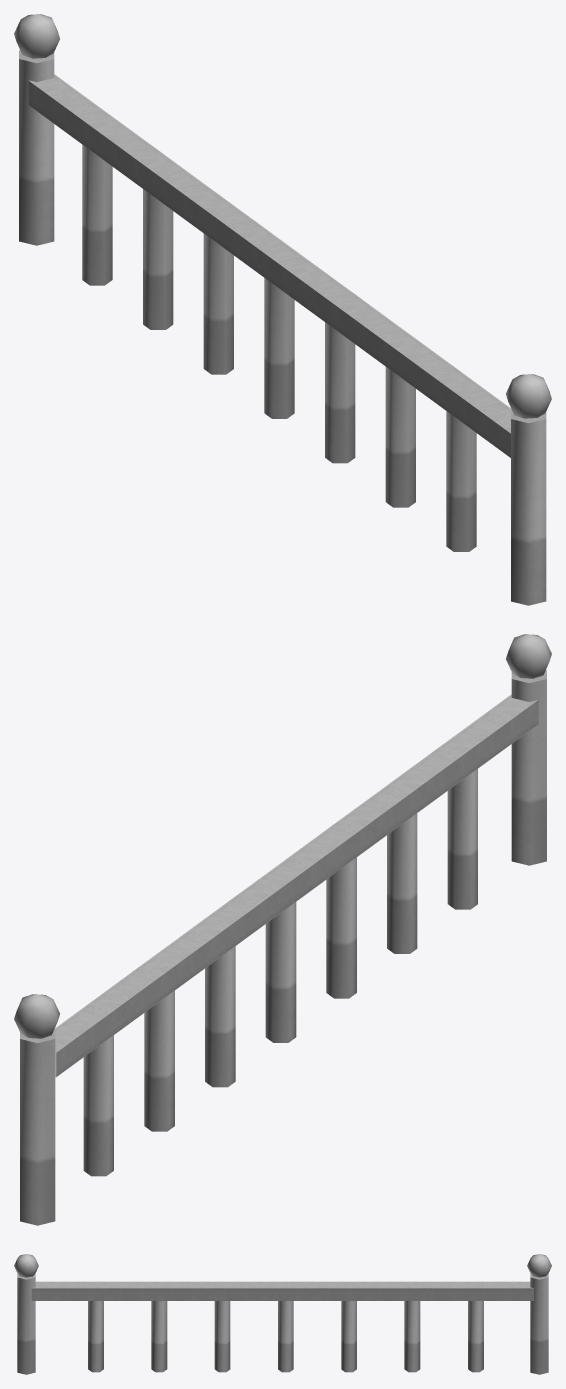
The model's file is 0177_T_ZhenYin_WeiLan03.glb.
The picture shows the model from 3 angles, top to bottom: view 1: azimuth 30°, elevation 25°; view 2: azimuth 150°, elevation 25°; view 3: azimuth 270°, elevation 25°; orthographic projection. The views are drawn at different scales.
Size of the model in its own units: 0.1021 by 0.5231 by 2.2.
Materials: 1 (1 with a texture image).
